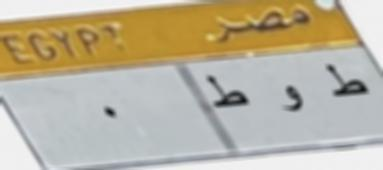0: (94, 94, 125, 134)
Taa: (324, 56, 372, 107), (203, 71, 252, 119)
waw: (277, 79, 309, 119)
